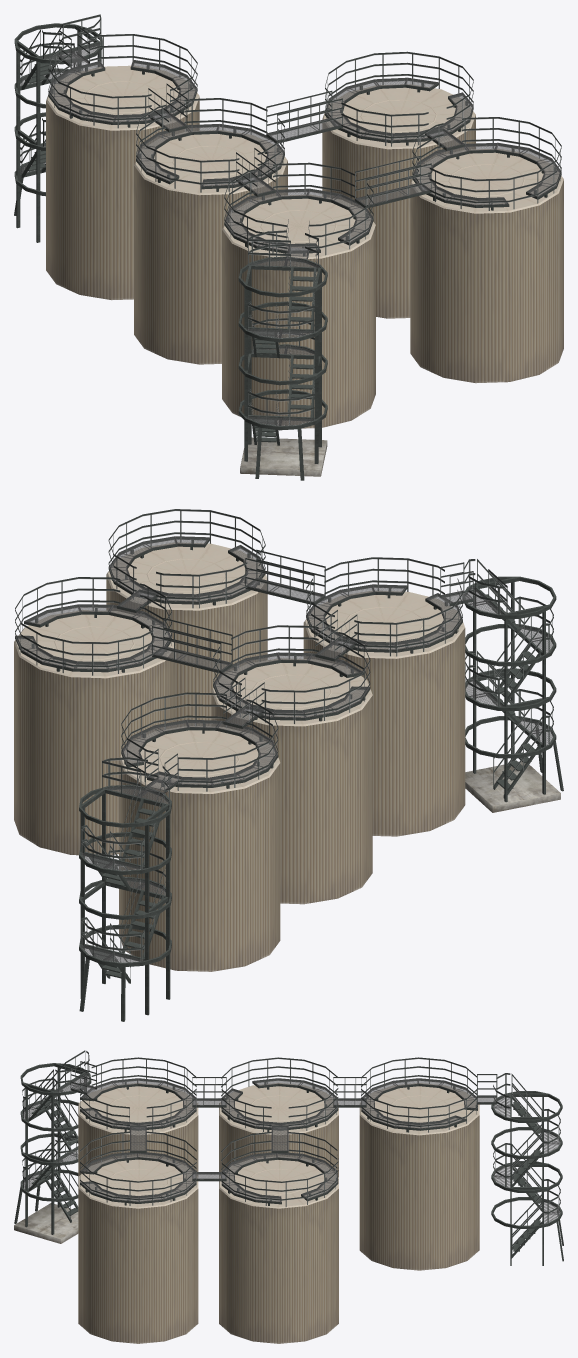
The model's file is plant-building22.glb.
3 views of the same model, one above another, from view 1: azimuth 30°, elevation 25°; view 2: azimuth 150°, elevation 25°; view 3: azimuth 270°, elevation 25° (orthographic). The views are drawn at different scales.
Parts seen in each view (by area): view 1: Object8935886; view 2: Object8935886; view 3: Object8935886.
Boxes of the visible parts, left/top/right/bottom form: Object8935886: left=14, top=14, right=563, bottom=480; Object8935886: left=14, top=509, right=563, bottom=1021; Object8935886: left=14, top=1050, right=563, bottom=1343.
Bounding box in the file's own units: 13.57 × 7.6 × 21.97.
Materials: 1 (1 with a texture image).
